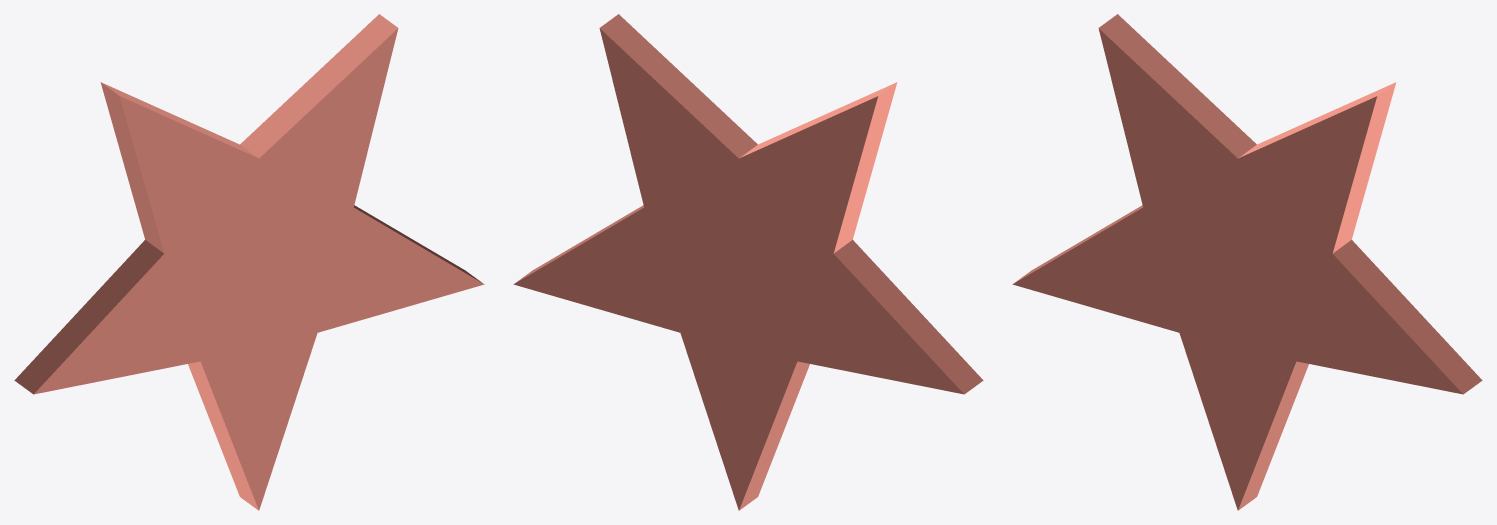
Rendered from badge_elastigirl.glb.
3 views of the same model, side by side, from view 1: azimuth 30°, elevation 25°; view 2: azimuth 150°, elevation 25°; view 3: azimuth 330°, elevation 25° (orthographic).
Parts seen in each view (by area): view 1: badge; view 2: badge; view 3: badge.
Boxes of the visible parts, bbox=[...] form: badge: bbox=[14, 14, 484, 510]; badge: bbox=[513, 14, 983, 510]; badge: bbox=[1012, 14, 1482, 510].
Bounding box in the file's own units: 1.9 × 1.81 × 0.14.
